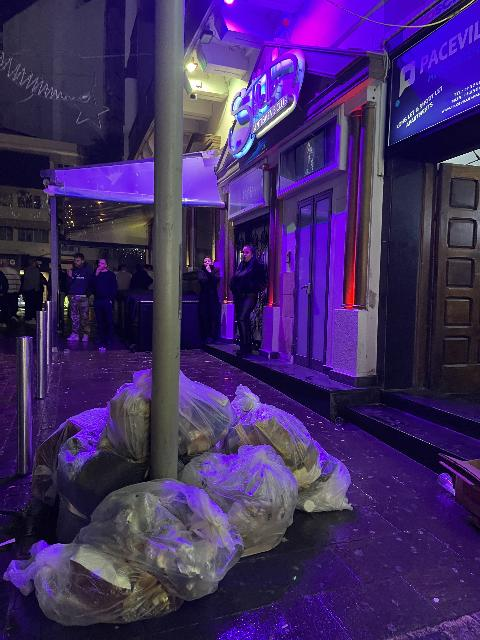Recyclable -Grey-: (58, 480, 244, 600), (32, 370, 151, 541), (14, 544, 182, 626), (180, 444, 298, 556), (216, 385, 333, 489), (97, 370, 151, 461), (178, 371, 232, 459)
